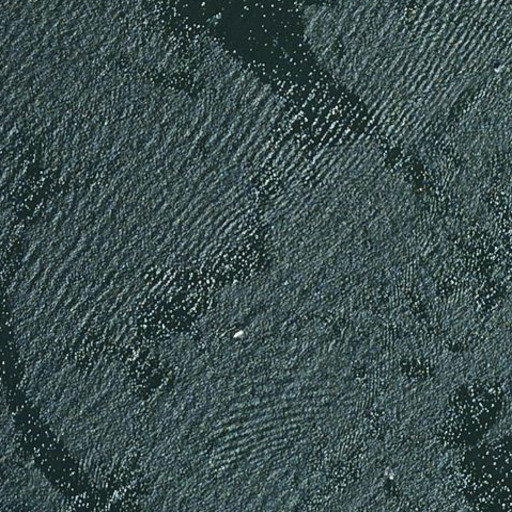ship: (231, 328, 244, 340)
